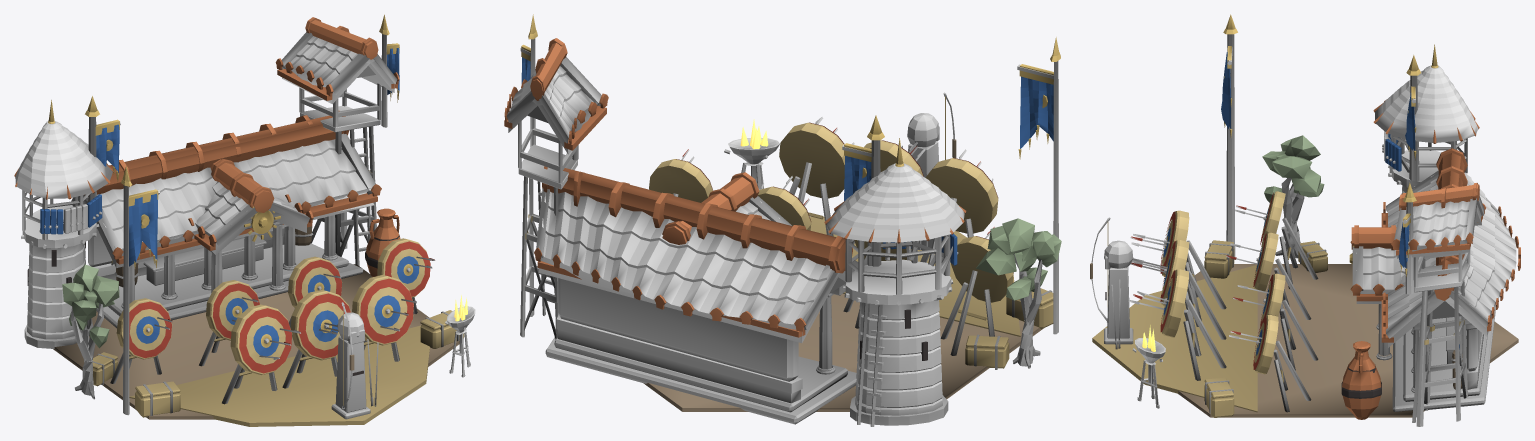
File: archer-camp-l3.glb
The picture shows the model from 3 angles, left to right: view 1: azimuth 30°, elevation 25°; view 2: azimuth 150°, elevation 25°; view 3: azimuth 270°, elevation 25°; orthographic projection. The views are drawn at different scales.
Parts seen in each view (by area): view 1: archer-camp-l3; view 2: archer-camp-l3; view 3: archer-camp-l3.
Boxes of the visible parts, x1,y1,x2,y2 form: archer-camp-l3: [14, 14, 475, 426]; archer-camp-l3: [504, 14, 1061, 426]; archer-camp-l3: [1090, 14, 1520, 426].
Size of the model in its own units: 1.63 by 0.9911 by 1.57.
